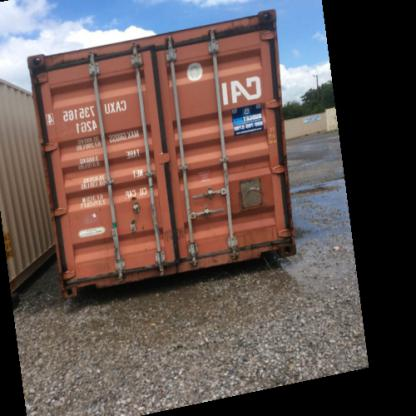Damage: (177, 242, 293, 262), (65, 262, 168, 280), (157, 221, 188, 247)
